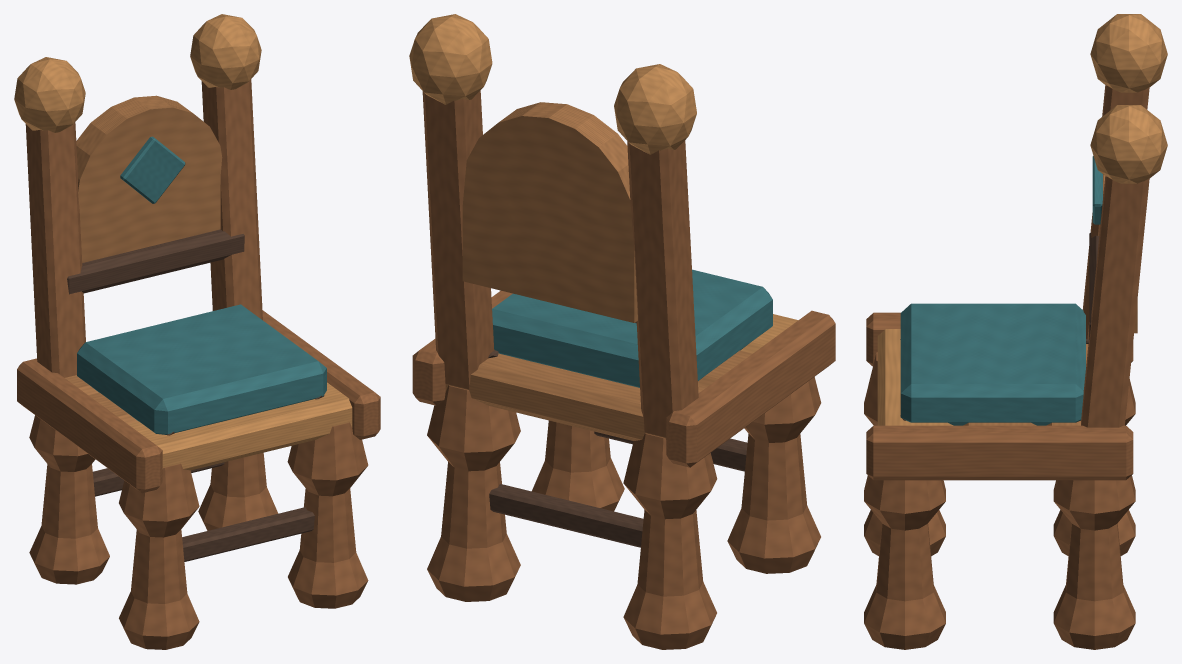
Rendered from chair_oak_carved.glb.
3 renders of one model, left to right at view 1: azimuth 30°, elevation 25°; view 2: azimuth 150°, elevation 25°; view 3: azimuth 270°, elevation 25°, orthographic. The views are drawn at different scales.
Parts seen in each view (by area): view 1: chair_oak_carved; view 2: chair_oak_carved; view 3: chair_oak_carved.
Boxes of the visible parts, left/top/right/bottom form: chair_oak_carved: left=14, top=14, right=380, bottom=649; chair_oak_carved: left=409, top=14, right=835, bottom=649; chair_oak_carved: left=864, top=14, right=1167, bottom=649.
Size of the model in its own units: 0.695 by 1.36 by 0.7051.
1 material, 1 textured.
